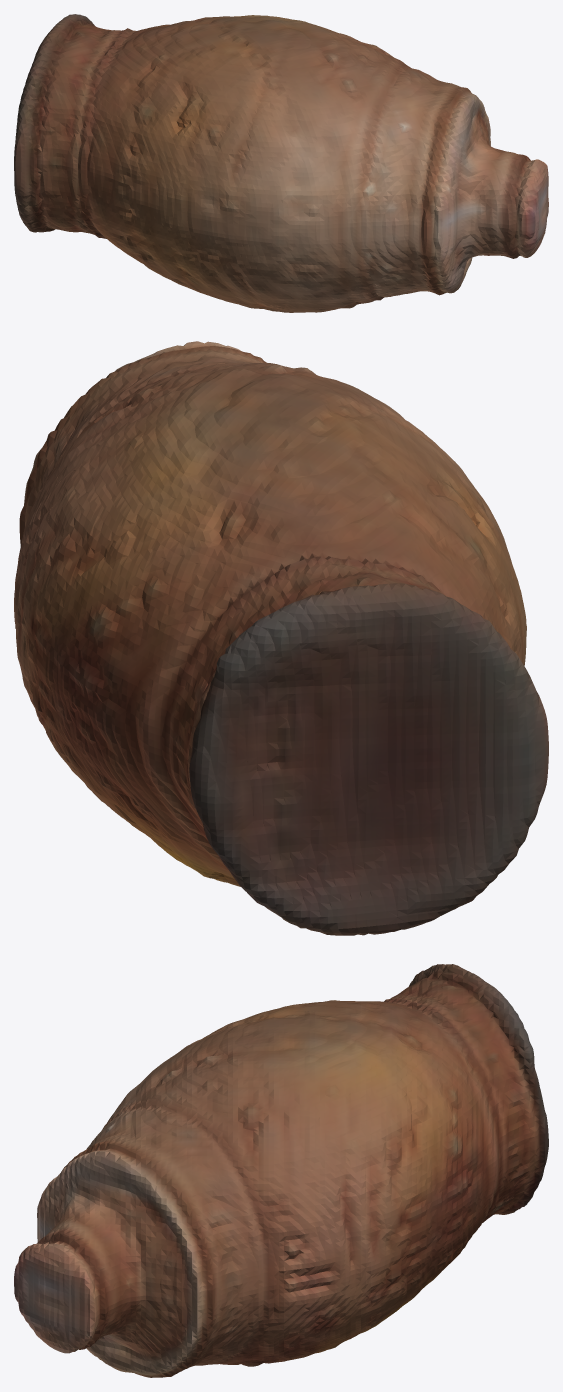
3 renders of one model, top to bottom at view 1: azimuth 30°, elevation 25°; view 2: azimuth 150°, elevation 25°; view 3: azimuth 270°, elevation 25°, orthographic. The views are drawn at different scales.
Size of the model in its own units: 0.733 by 0.4602 by 0.714.
